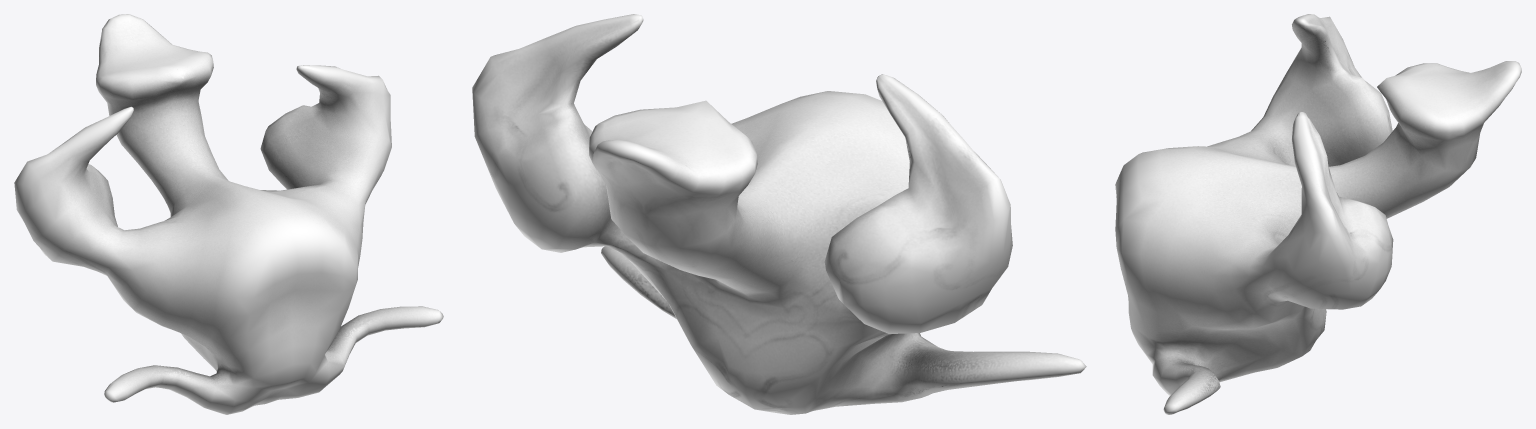
Rendered from Projeto CastiçalParede.fbx.
3 renders of one model, left to right at view 1: azimuth 30°, elevation 25°; view 2: azimuth 150°, elevation 25°; view 3: azimuth 270°, elevation 25°, orthographic. The views are drawn at different scales.
Visible parts, largest first — view 1: Retopo_cASTIÇALpAREDE.001; view 2: Retopo_cASTIÇALpAREDE.001; view 3: Retopo_cASTIÇALpAREDE.001.
Part boxes in pixels (left/top/right/bottom): Retopo_cASTIÇALpAREDE.001: left=14, top=14, right=443, bottom=414; Retopo_cASTIÇALpAREDE.001: left=472, top=14, right=1086, bottom=414; Retopo_cASTIÇALpAREDE.001: left=1115, top=14, right=1521, bottom=414.
Size of the model in its own units: 278 by 204 by 236.
